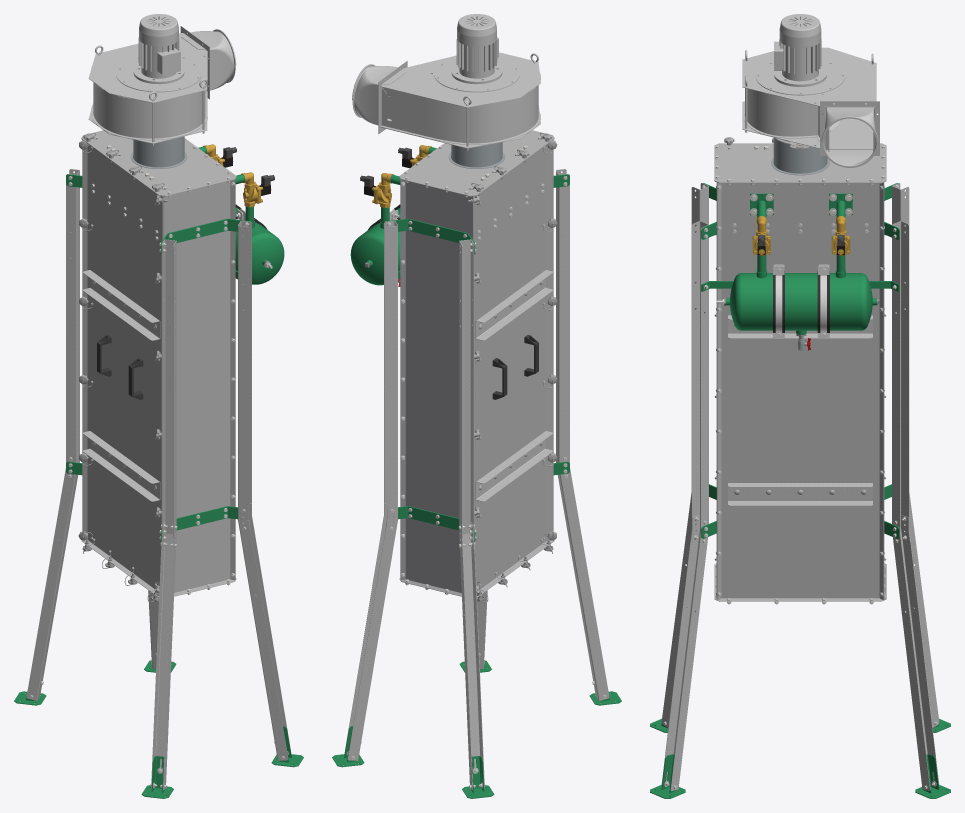
The model's file is JET-Filter_Duo.glb.
3 views of the same model, side by side, from view 1: azimuth 30°, elevation 25°; view 2: azimuth 150°, elevation 25°; view 3: azimuth 270°, elevation 25° (orthographic). The views are drawn at different scales.
Parts seen in each view (by area): view 1: Volumenkörper1 (×10), Volumenkörper2 (×4), Unbekannte Referenz in PSP importiert---52250001:1; view 2: Volumenkörper2 (×5), Volumenkörper1 (×9), Unbekannte Referenz in PSP importiert---52250001:1; view 3: Volumenkörper1 (×10), Volumenkörper2 (×4), Unbekannte Referenz in PSP importiert---52250001:1.
Boxes of the visible parts, x1=… form: Volumenkörper1 (×10): x1=81, y1=130, x2=284, y2=597; Volumenkörper2 (×4): x1=26, y1=169, x2=291, y2=790; Unbekannte Referenz in PSP importiert---52250001:1: x1=88, y1=14, x2=236, y2=145; Volumenkörper2 (×5): x1=344, y1=169, x2=609, y2=790; Volumenkörper1 (×9): x1=350, y1=130, x2=554, y2=597; Unbekannte Referenz in PSP importiert---52250001:1: x1=352, y1=14, x2=540, y2=150; Volumenkörper1 (×10): x1=714, y1=138, x2=886, y2=601; Volumenkörper2 (×4): x1=661, y1=183, x2=939, y2=790; Unbekannte Referenz in PSP importiert---52250001:1: x1=742, y1=14, x2=879, y2=167.
Size of the model in its own units: 0.8094 by 3.08 by 1.14.
43 materials, 8 textured.
